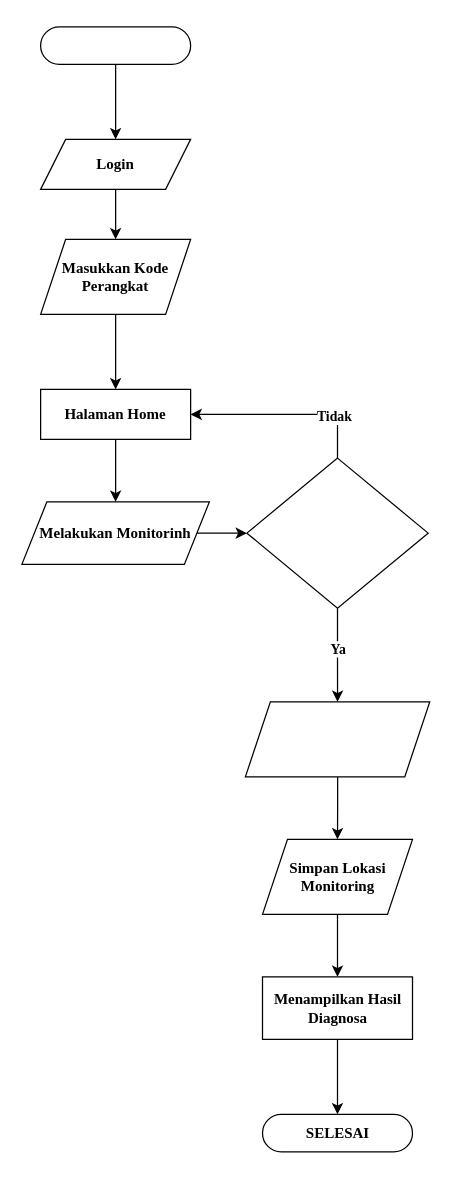
Image size: 453x1179. Some labels were removed from this diagram. Here are the shapes that lost their labels. From the top down, the centre of each, then its label:
the point at 115,45: MULAI
the point at 337,532: Monitoring Berhasil
the point at 337,739: Simpan Data SpO2 dan BPM
